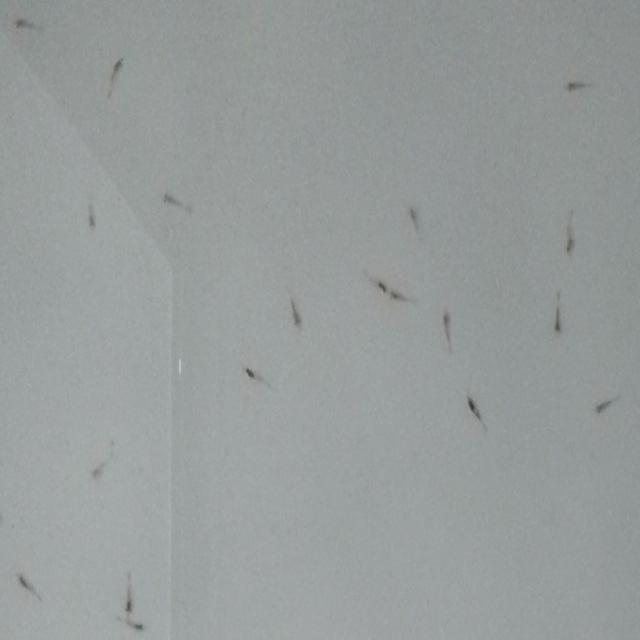shrimp-seed: (12, 565, 35, 595), (104, 53, 125, 85), (561, 74, 585, 100), (85, 204, 102, 239), (12, 12, 34, 34), (160, 188, 182, 210), (240, 360, 258, 386), (465, 392, 483, 418), (288, 306, 306, 330), (88, 458, 106, 481), (372, 276, 390, 298), (594, 394, 612, 416), (440, 307, 454, 335), (404, 200, 419, 224), (122, 590, 136, 614), (562, 232, 576, 256), (552, 311, 564, 339), (130, 616, 148, 634), (390, 286, 404, 308)
